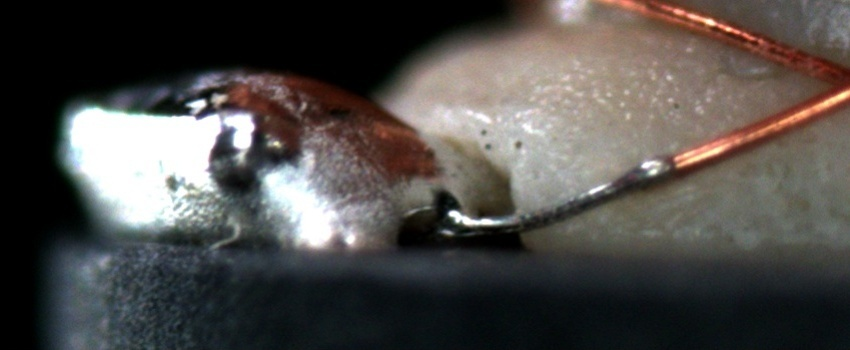CL: (802, 49, 849, 118)
TS: (437, 159, 674, 233)
TTCW: (443, 129, 749, 238)
